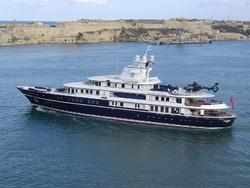yacht: (15, 44, 238, 127)
